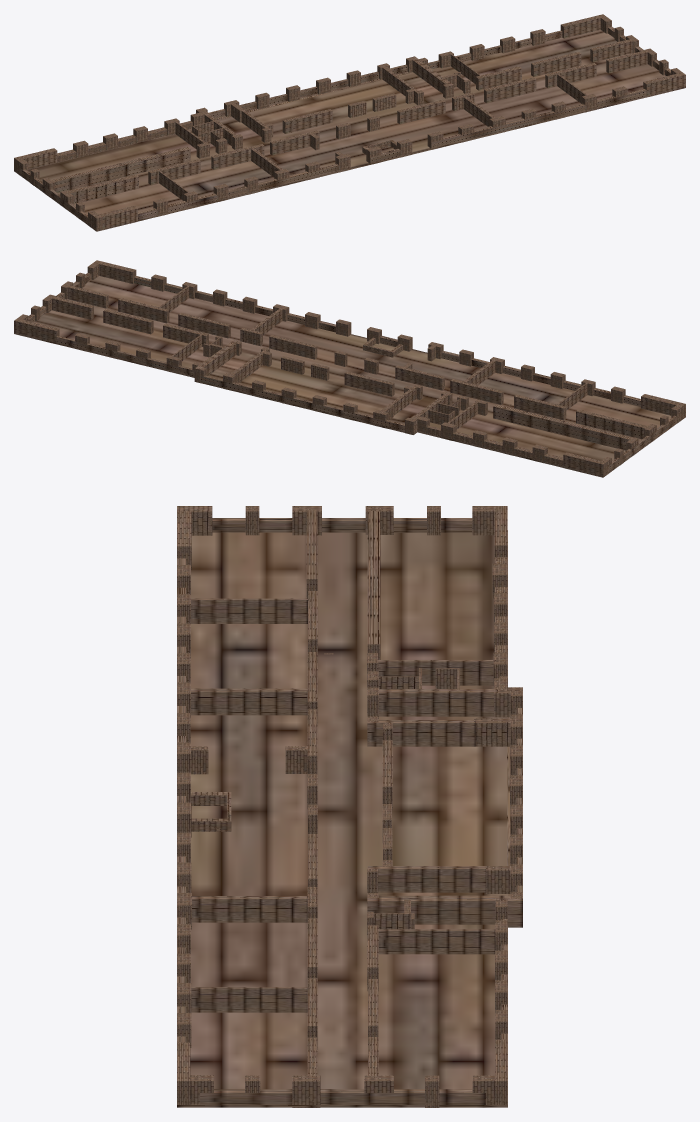
Rendered from 1floor.obj.
The picture shows the model from 3 angles, top to bottom: view 1: azimuth 30°, elevation 25°; view 2: azimuth 150°, elevation 25°; view 3: azimuth 270°, elevation 25°; orthographic projection. The views are drawn at different scales.
Visible parts, largest first — view 1: Cube.146, Cube.006, Cube.094, Cube.054, Cube.008, Cube.069, Cube.089, Cube.132, Cube.064, Cube.052, Cube.093, Cube.049 (+20 smaller); view 2: Cube.146, Cube.006, Cube.094, Cube.008, Cube.054, Cube.009, Cube.049, Cube.069, Cube.052, Cube.075, Cube.089, Cube.132 (+20 smaller); view 3: Cube.146, Cube.145, Cube.007, Cube.048, Cube.112, Cube.065, Cube.092, Cube.074, Cube.051, Cube.128, Cube.136, Cube.005 (+7 smaller).
Boxes of the visible parts, <box> form: Cube.146: <box>14,29,685,224</box>; Cube.006: <box>138,89,646,219</box>; Cube.094: <box>51,146,190,192</box>; Cube.054: <box>66,174,138,203</box>; Cube.008: <box>208,64,407,118</box>; Cube.069: <box>484,77,536,103</box>; Cube.089: <box>531,52,581,76</box>; Cube.132: <box>282,109,332,133</box>; Cube.064: <box>397,99,445,124</box>; Cube.052: <box>148,159,200,184</box>; Cube.093: <box>476,66,521,90</box>; Cube.049: <box>211,144,264,169</box>; Cube.146: <box>14,276,676,477</box>; Cube.006: <box>134,276,640,406</box>; Cube.094: <box>493,404,632,450</box>; Cube.008: <box>200,375,404,431</box>; Cube.054: <box>576,409,647,439</box>; Cube.009: <box>56,336,194,376</box>; Cube.049: <box>450,379,503,404</box>; Cube.069: <box>178,312,230,338</box>; Cube.052: <box>514,394,566,420</box>; Cube.075: <box>118,298,169,323</box>; Cube.089: <box>103,309,153,334</box>; Cube.132: <box>344,371,394,396</box>; Cube.146: <box>177,530,510,1107</box>; Cube.145: <box>367,895,522,927</box>; Cube.007: <box>200,1089,485,1104</box>; Cube.048: <box>190,688,308,715</box>; Cube.112: <box>379,689,497,716</box>; Cube.065: <box>191,896,308,922</box>; Cube.092: <box>378,929,495,954</box>; Cube.074: <box>190,987,308,1012</box>; Cube.051: <box>191,598,307,623</box>; Cube.128: <box>367,866,487,892</box>; Cube.136: <box>367,720,475,746</box>; Cube.005: <box>212,518,472,532</box>.
Bounding box in the file's own units: 4.63 × 0.1 × 1.18.
